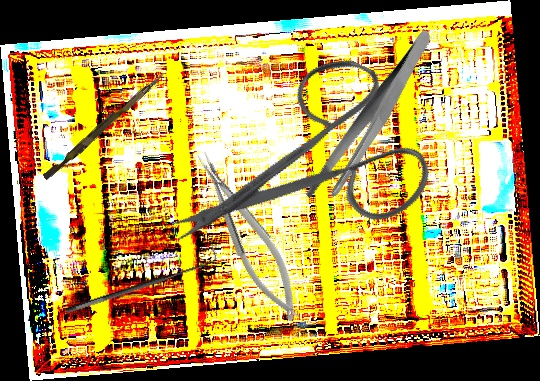Dressing Forceps: (274, 28, 470, 211)
Hook Surgical: (61, 246, 221, 316)
Iris Scissors: (164, 19, 461, 327)
Needle Holder: (188, 141, 311, 331)
Pusher: (42, 67, 166, 184)
